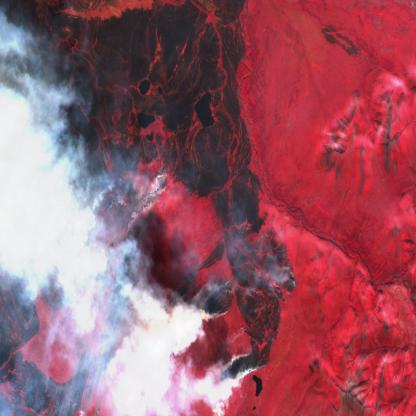fire: (164, 221, 299, 381), (143, 138, 174, 202)
